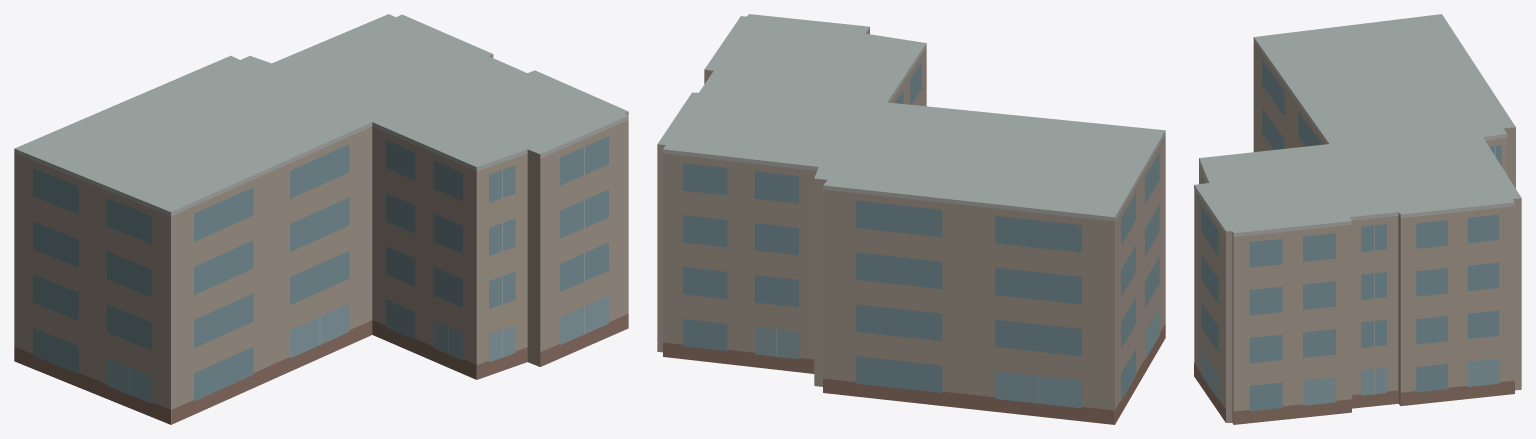
Rendered from survey-upis-32930500.glb.
The picture shows the model from 3 angles, left to right: view 1: azimuth 30°, elevation 25°; view 2: azimuth 150°, elevation 25°; view 3: azimuth 270°, elevation 25°; orthographic projection. The views are drawn at different scales.
Visible parts, largest first — view 1: survey-upis-32930500.tmp; view 2: survey-upis-32930500.tmp; view 3: survey-upis-32930500.tmp.
Boxes of the visible parts, left/top/right/bottom form: survey-upis-32930500.tmp: left=14, top=14, right=628, bottom=424; survey-upis-32930500.tmp: left=657, top=14, right=1165, bottom=424; survey-upis-32930500.tmp: left=1194, top=14, right=1521, bottom=424.
Bounding box in the file's own units: 29.95 × 12.2 × 18.91.
